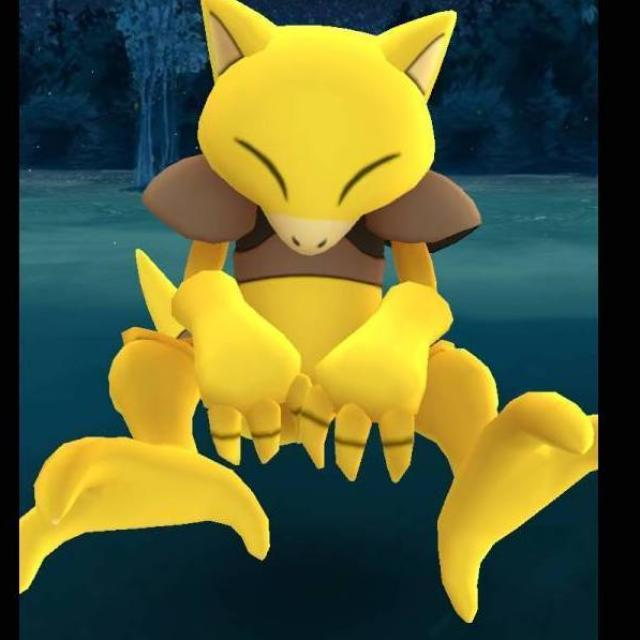Abra: (138, 2, 496, 508)
